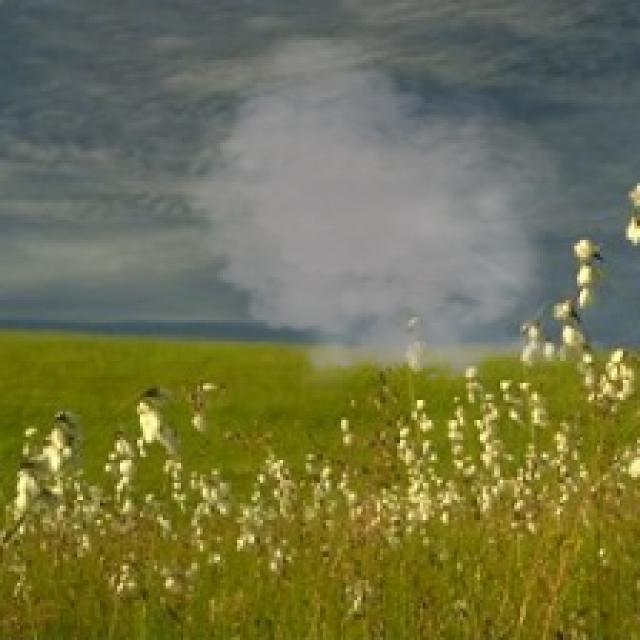Smoke: (168, 23, 583, 400)
